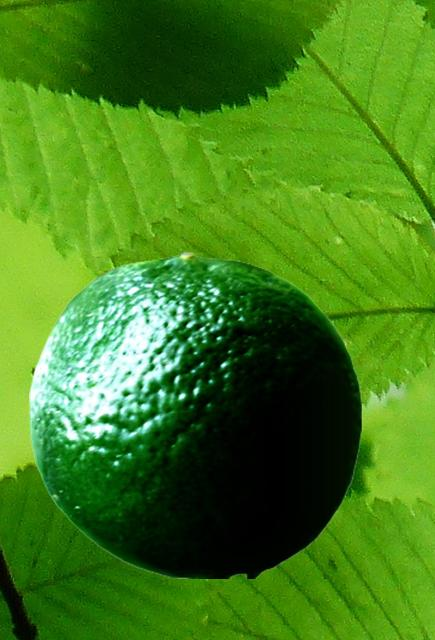calamansi: (29, 251, 361, 577)
